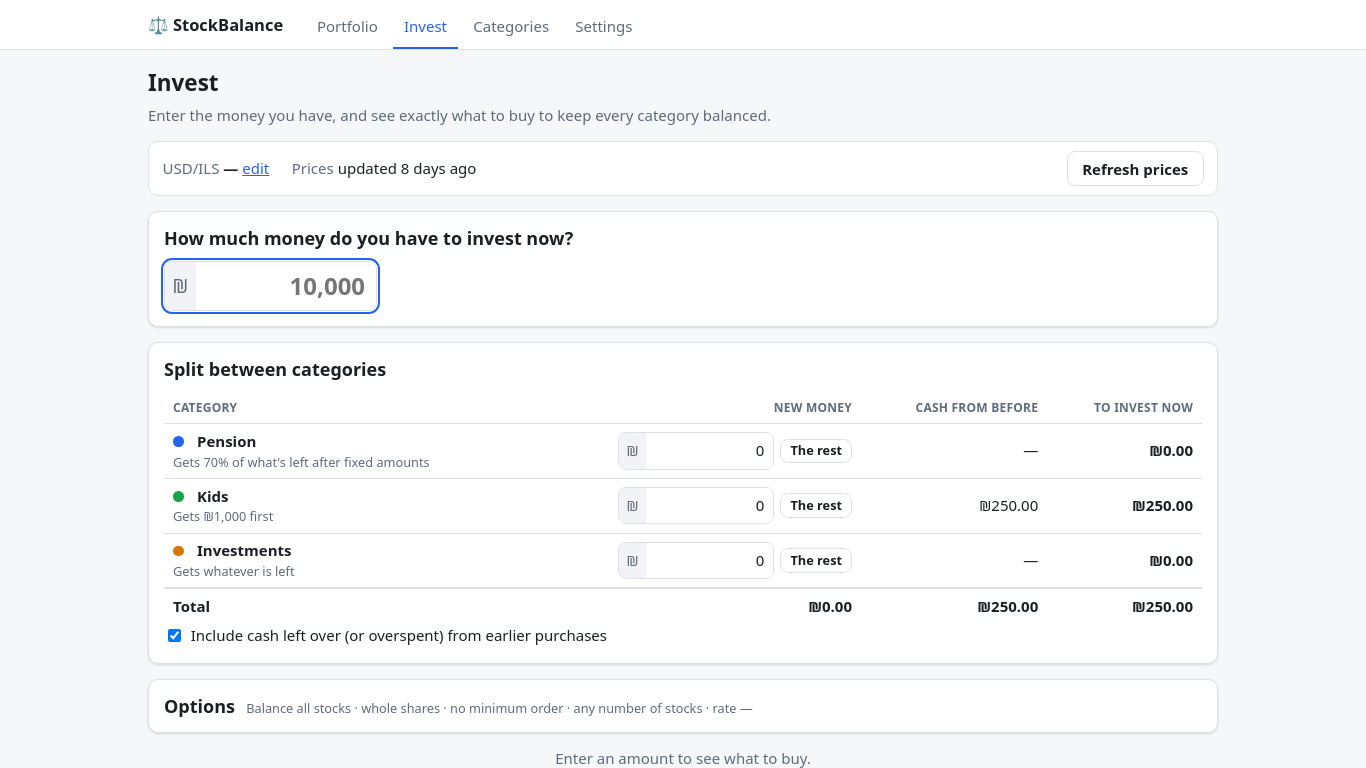
Test: InvestPage › asks for the exchange rate when there is none
The width and height of the screenshot is (1366, 768).
Type "5000" into the field named "Amount to invest in ILS". click: [286, 286]
box: [196, 262, 376, 310]
(page scrolled)
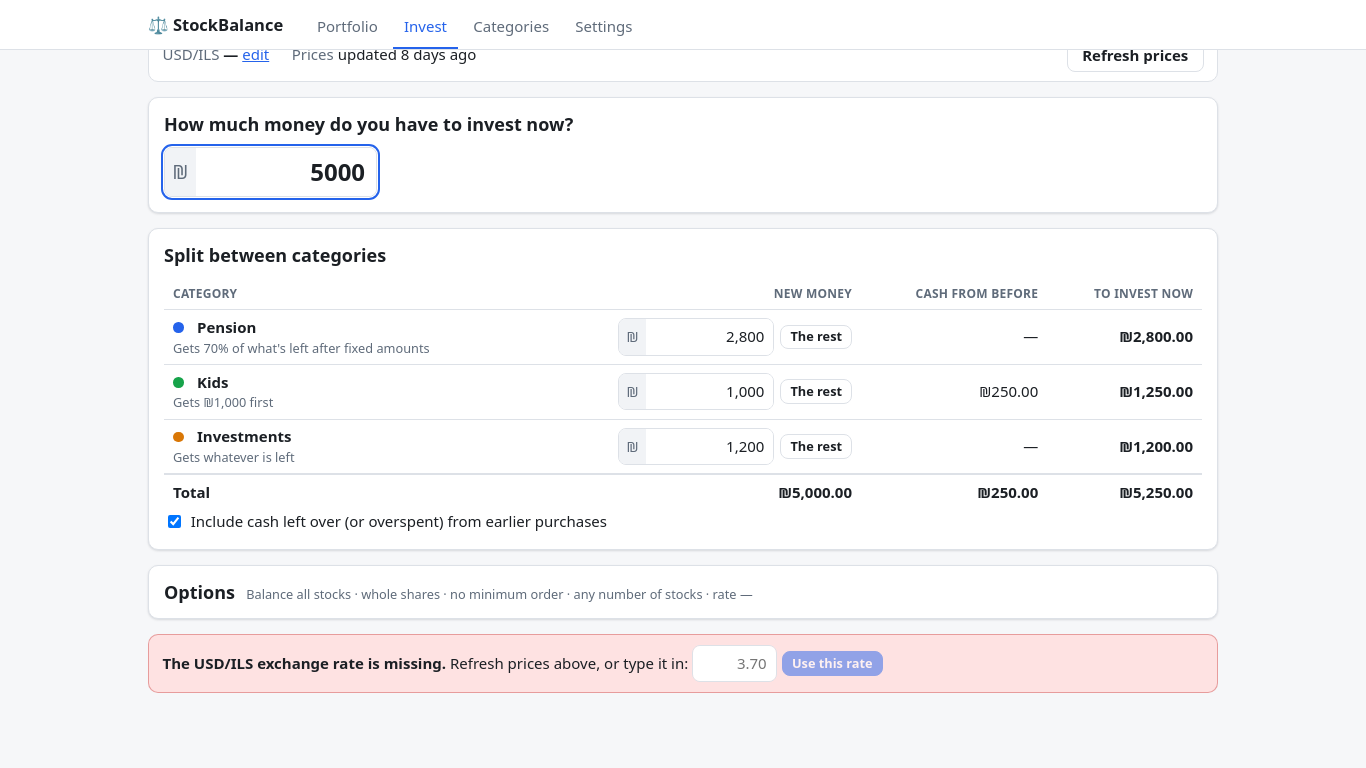
Expected: the text "The USD/ILS exchange rate is missing." is shown, [162, 653, 446, 673]
Type "3.6" into the field named "USD/ILS rate". click: [734, 664]
box: [693, 646, 776, 681]
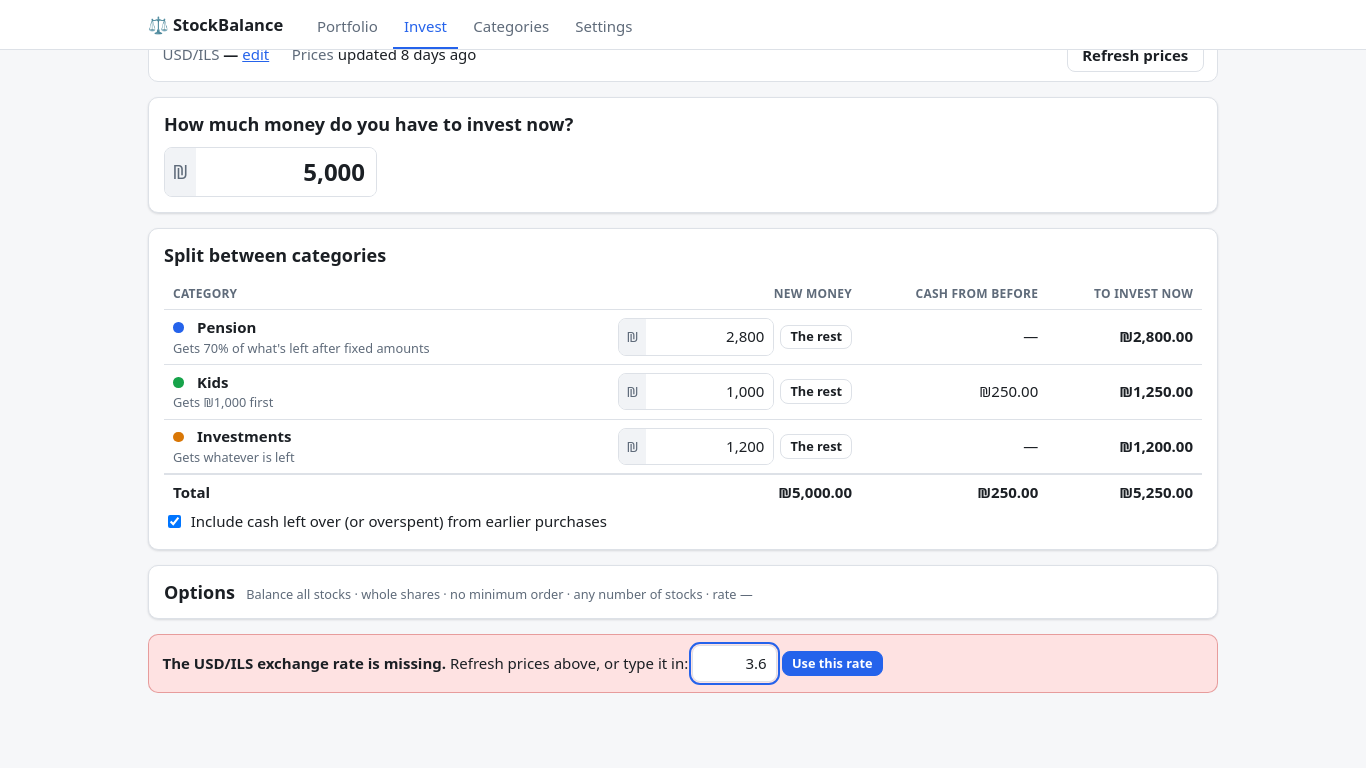
Click the button "Use this rate". click: [832, 664]
box: [782, 651, 882, 676]
(page scrolled)
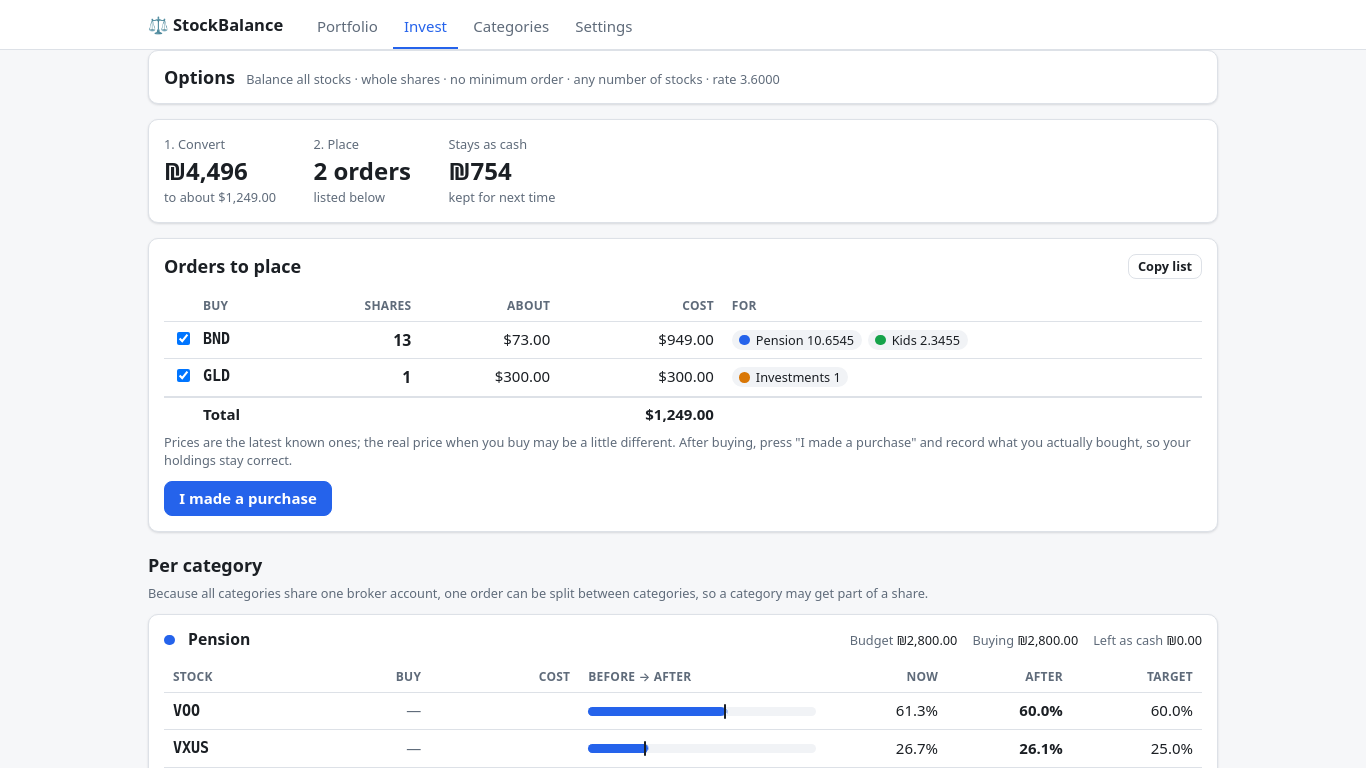
Expected: the element "Orders to place" is shown, [148, 238, 1218, 532]
